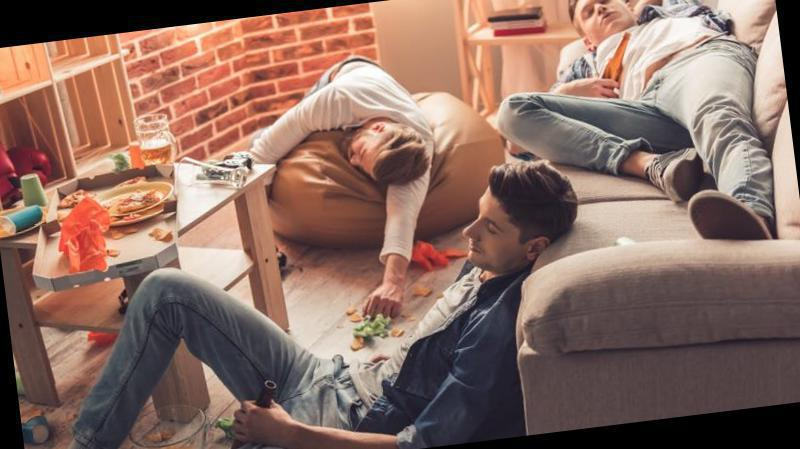Drunk: (578, 0, 631, 31)
